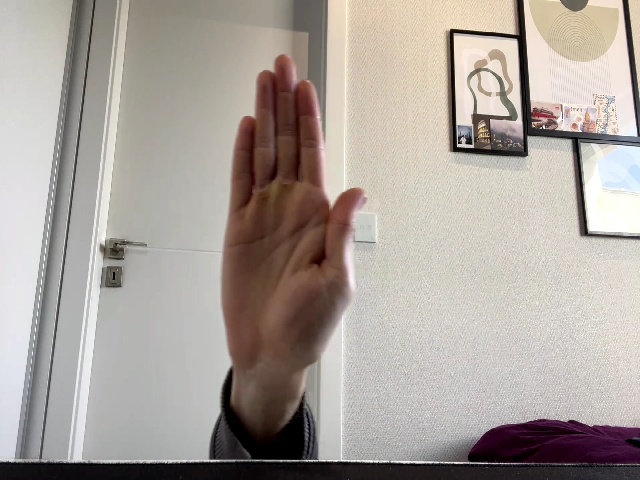B: (222, 55, 366, 371)
